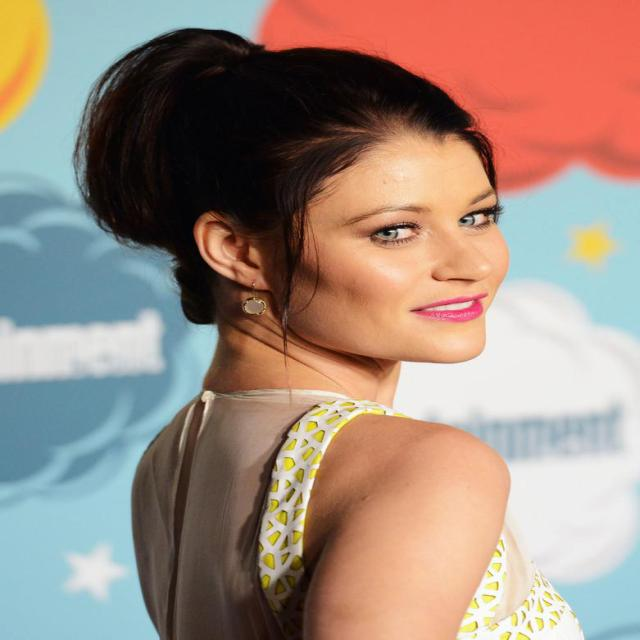no-earmuff: (167, 194, 303, 316)
